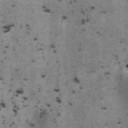oxide scale of temperature system: (0, 37, 84, 126), (41, 0, 108, 32), (2, 4, 30, 50), (100, 54, 128, 76), (101, 106, 107, 110), (118, 120, 122, 124), (78, 48, 82, 51)
